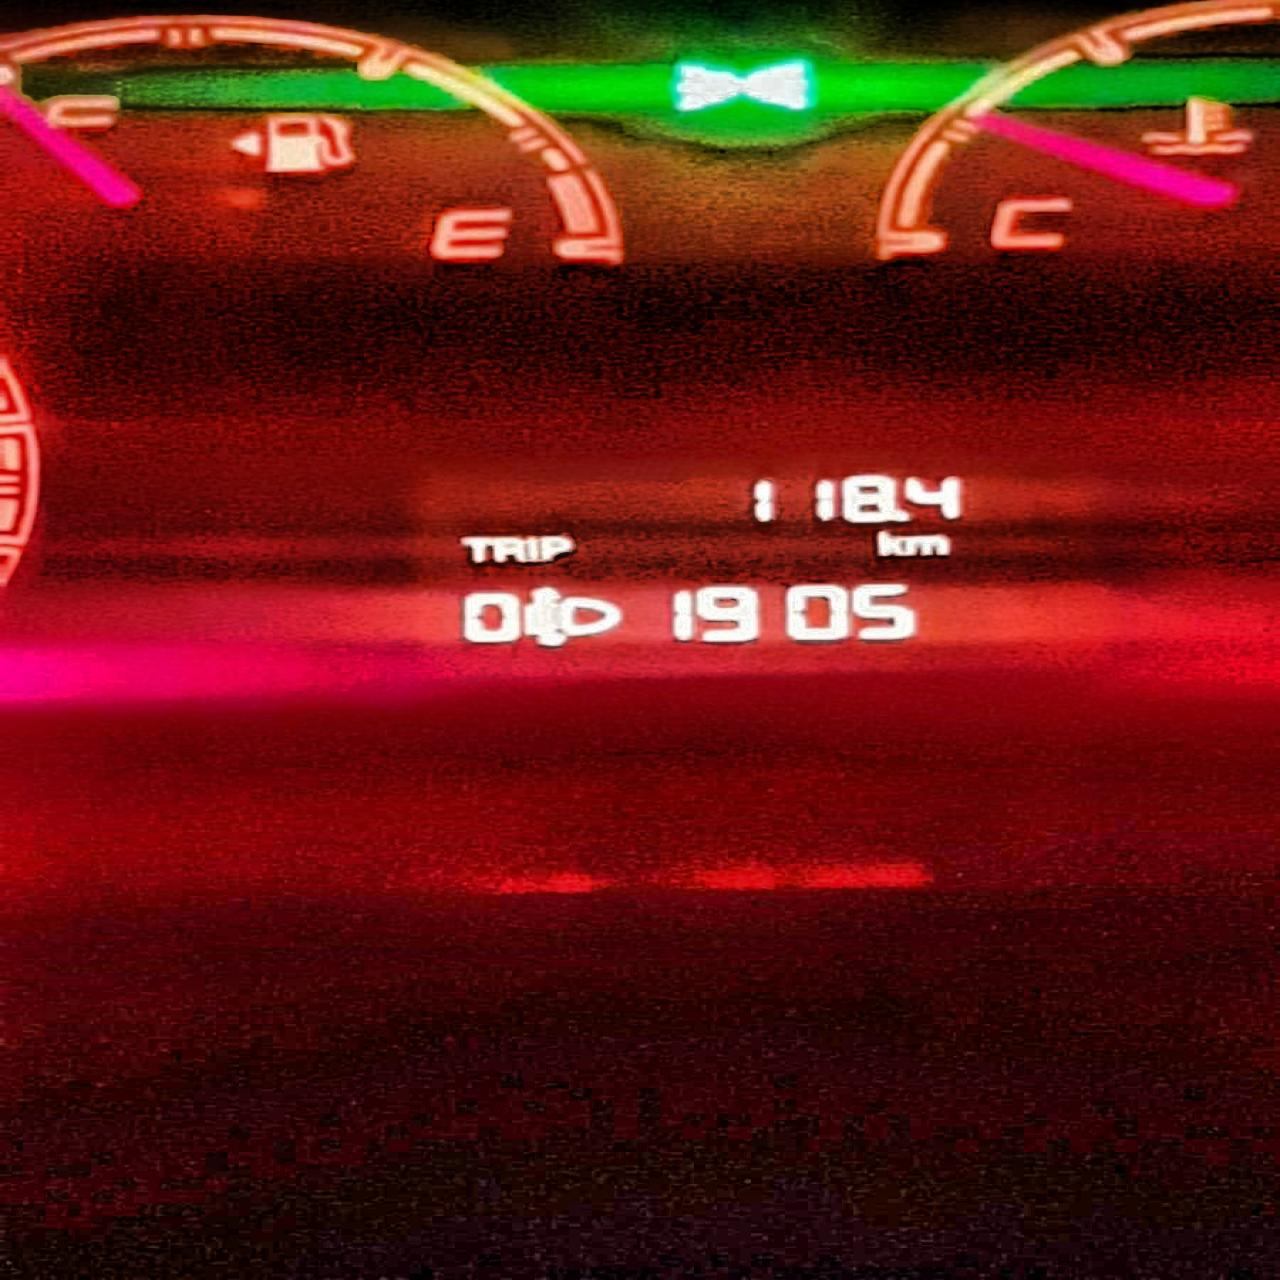-: (888, 509, 911, 522)
0: (782, 584, 849, 641), (456, 591, 522, 644)
1: (668, 588, 694, 641), (811, 477, 836, 523), (751, 478, 775, 524)
4: (903, 476, 964, 519)
5: (852, 581, 918, 640)
8: (838, 474, 897, 524)
9: (693, 584, 761, 644)
X: (903, 533, 953, 558), (538, 533, 573, 563), (459, 535, 492, 565), (492, 536, 523, 563), (874, 530, 901, 558), (523, 535, 538, 563)
odometer: (393, 447, 1117, 652)
